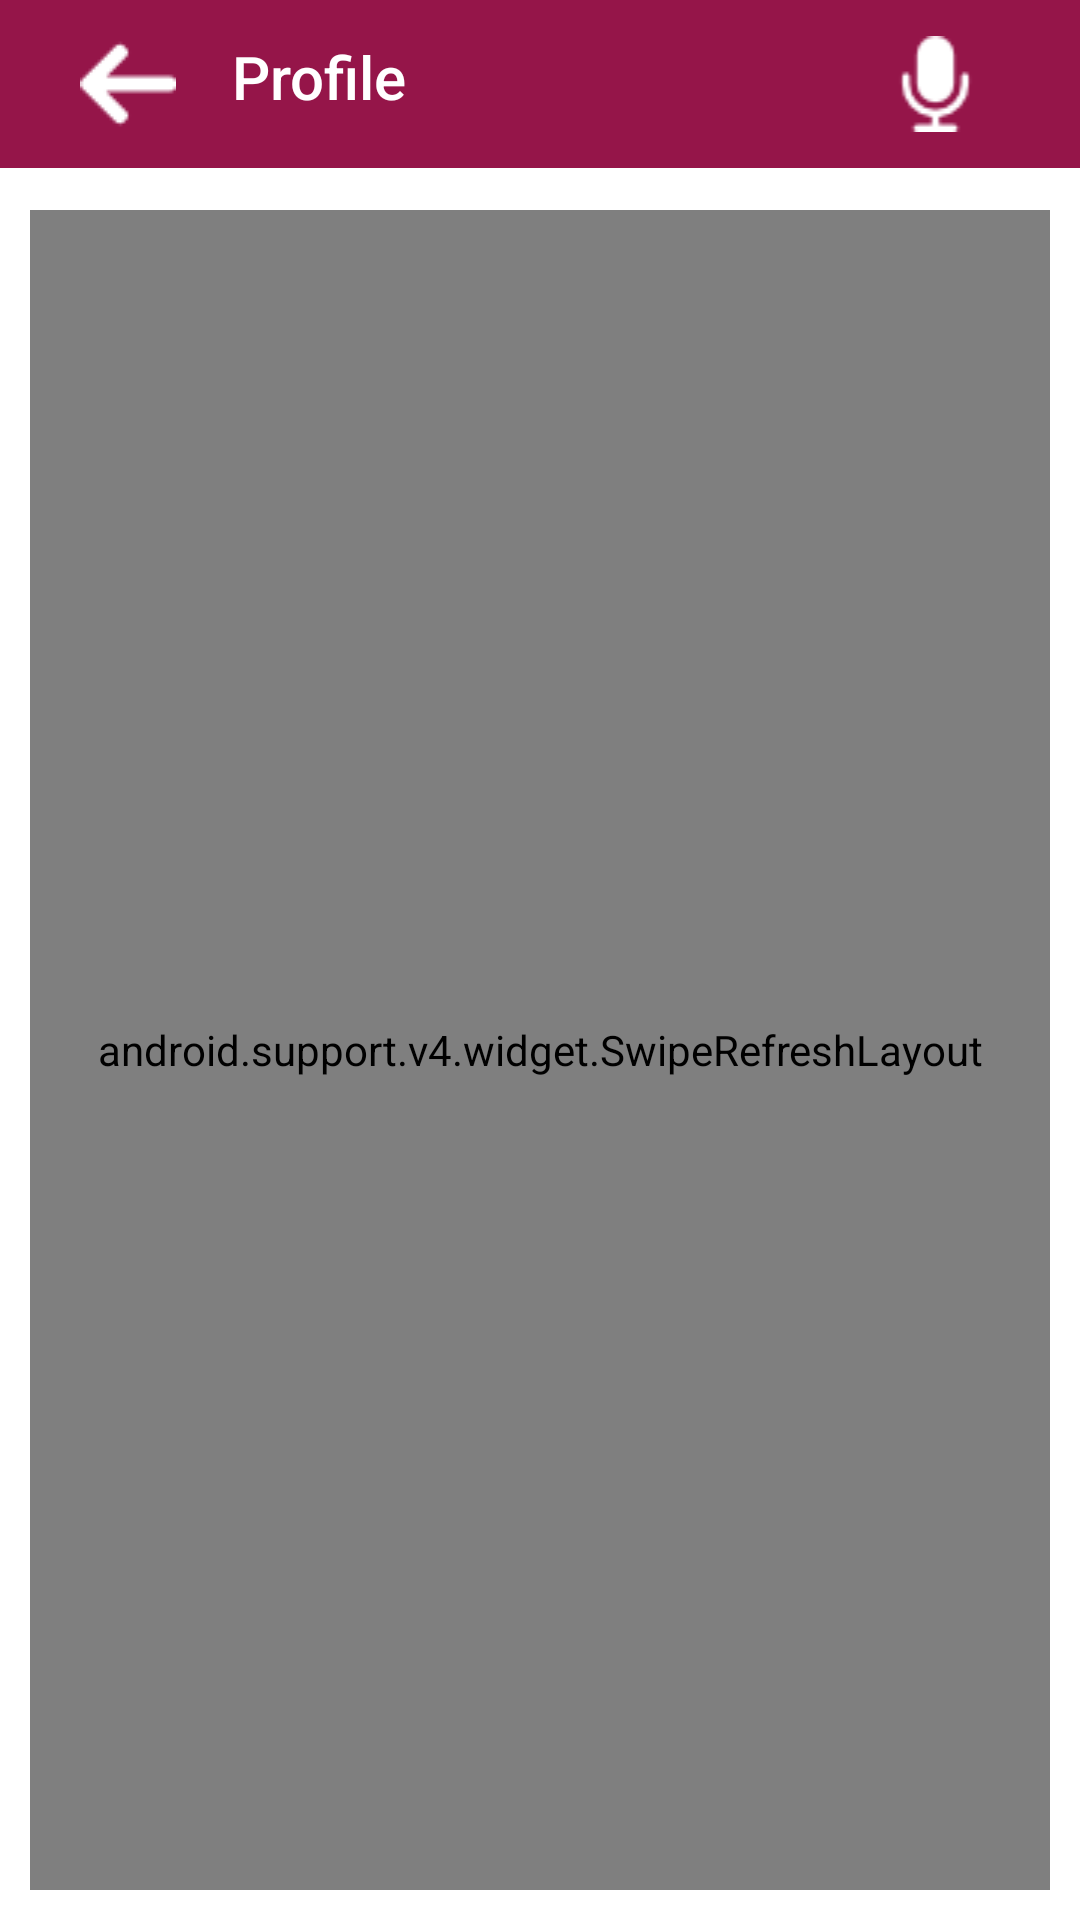

Point at icon controls on the screen. Image size 1080 x 1920, points as (x=x, y=y).
left: (x=128, y=84)
